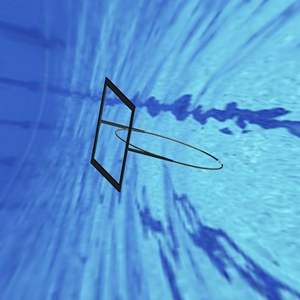circle: (89, 74, 225, 194)
